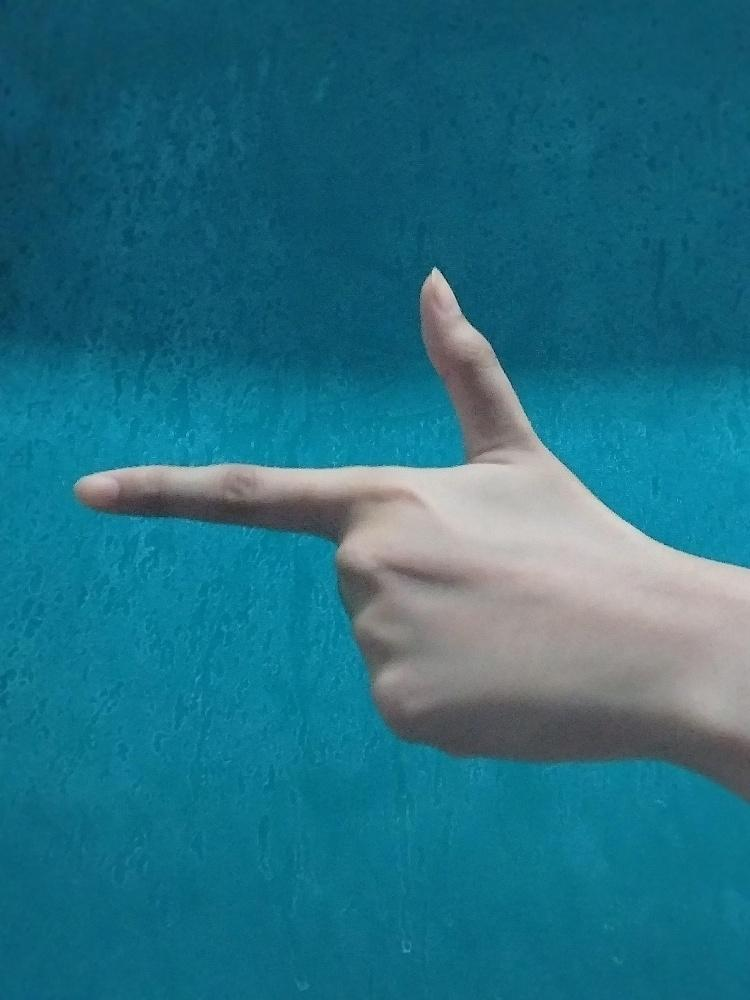g: (73, 263, 641, 772)
